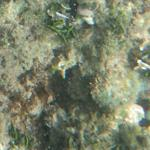dead: (6, 6, 147, 148)
